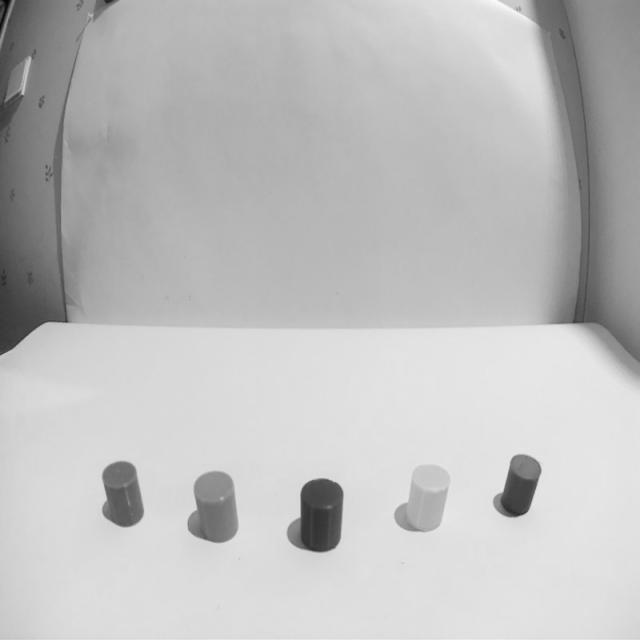cylinder: (405, 463, 453, 532), (299, 478, 343, 552), (193, 472, 238, 543), (102, 462, 144, 528), (501, 452, 543, 516)
